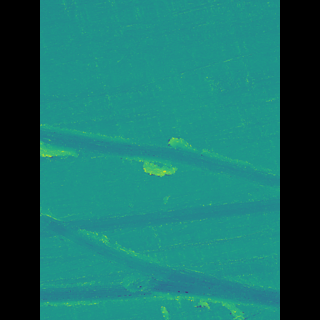Loch: (69, 210, 251, 311), (68, 120, 251, 195)
